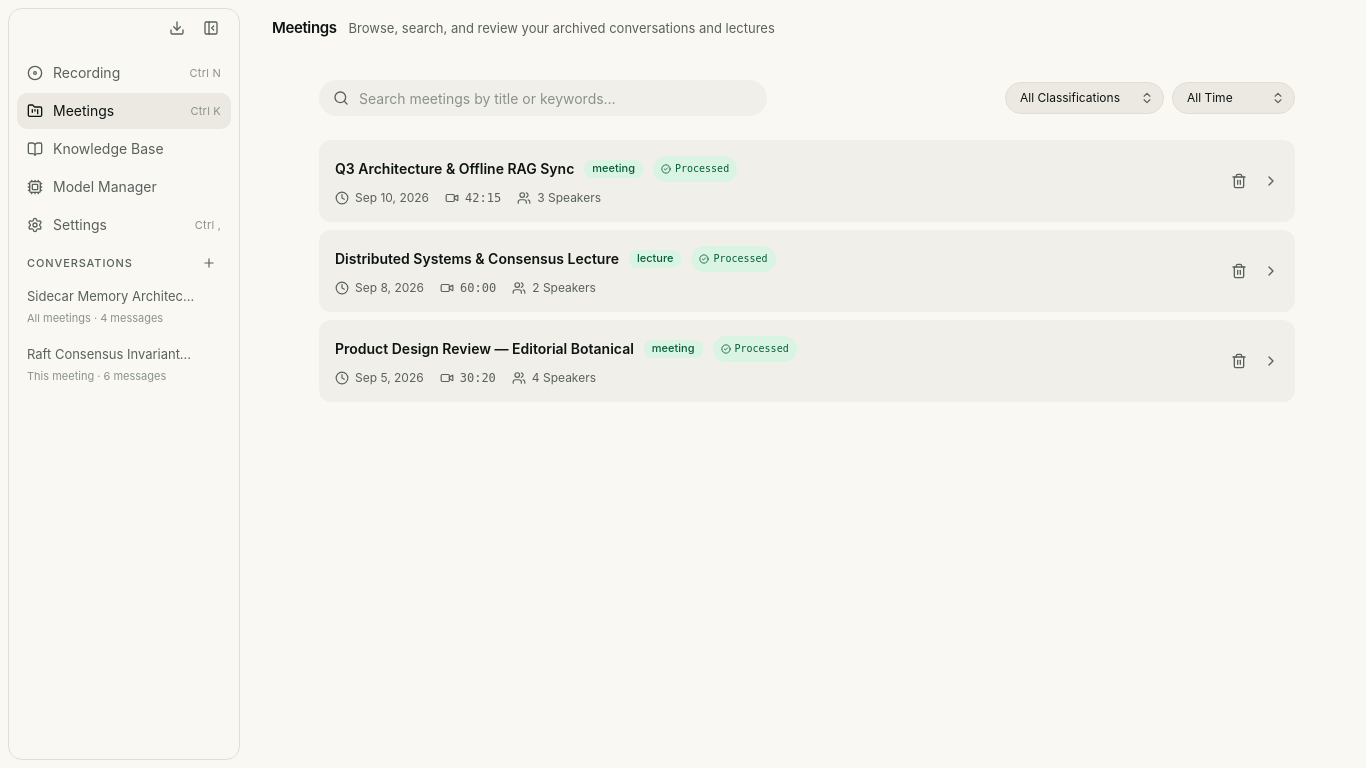
Scenario: Round 5: delete-meeting dialog matches the conversation delete dialog › works from the Meetings library end to end
This screenshot has width=1366, height=768.
Expected: the heading "Q3 Architecture & Offline RAG Sync" is shown, [335,159,574,179]
Click the button titled "Delete meeting" at (1239, 181), box [1223,165,1255,197]
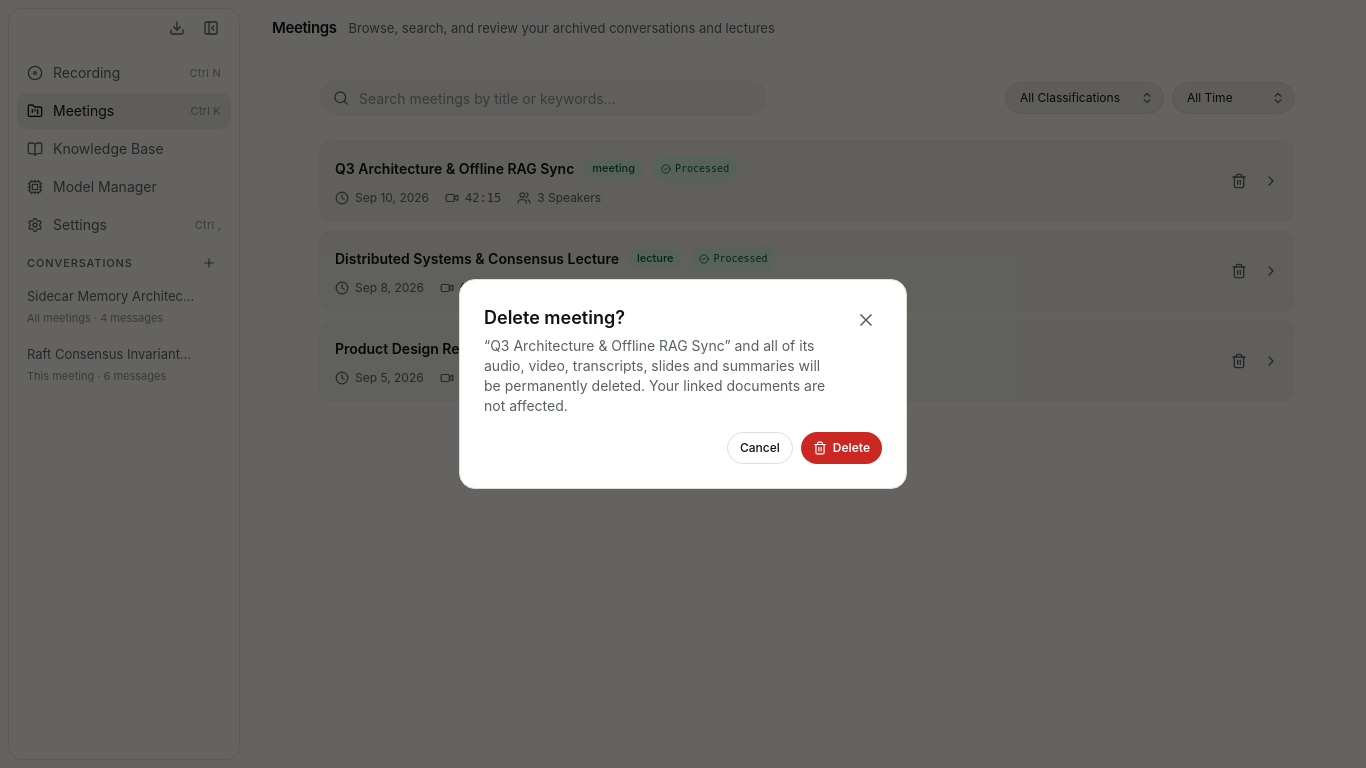
Click the button "Delete" at (841, 448), box [801,432,882,464]
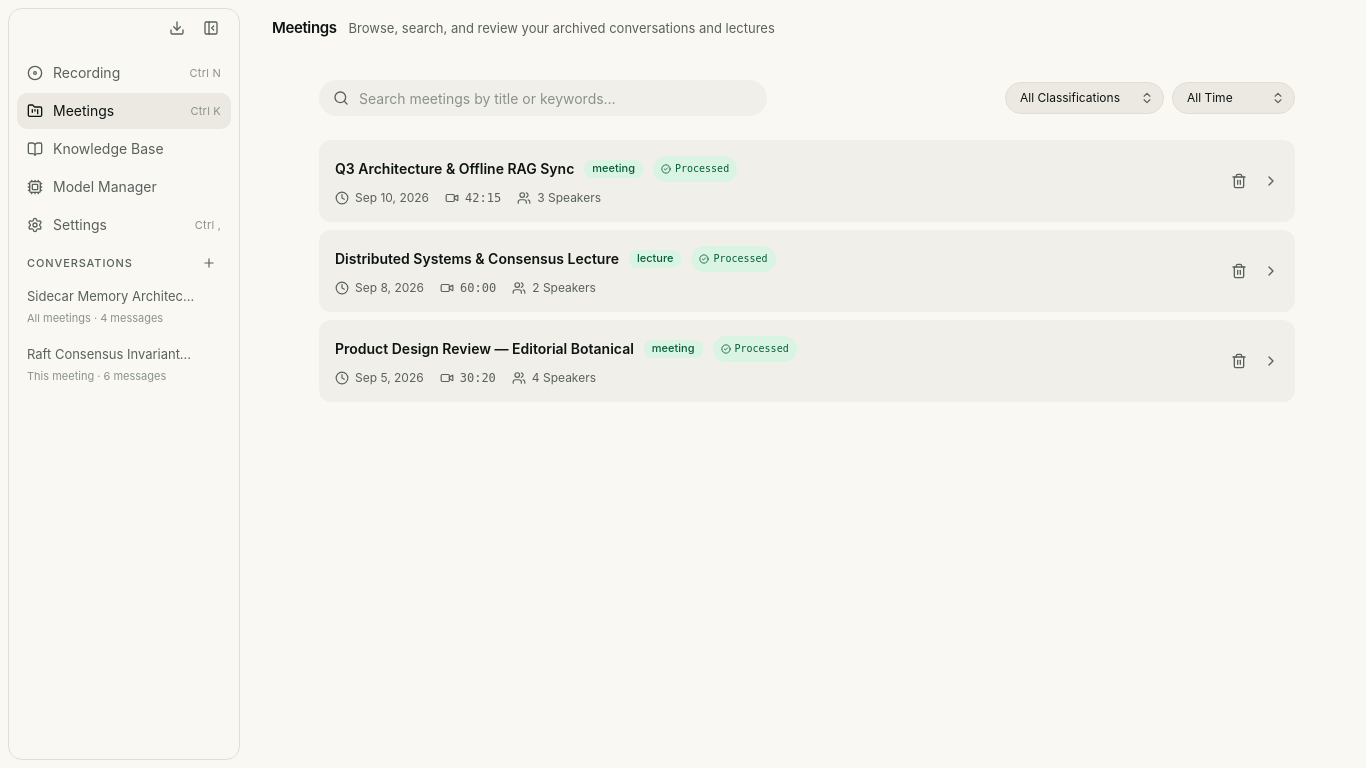
Now the dialog is gone
